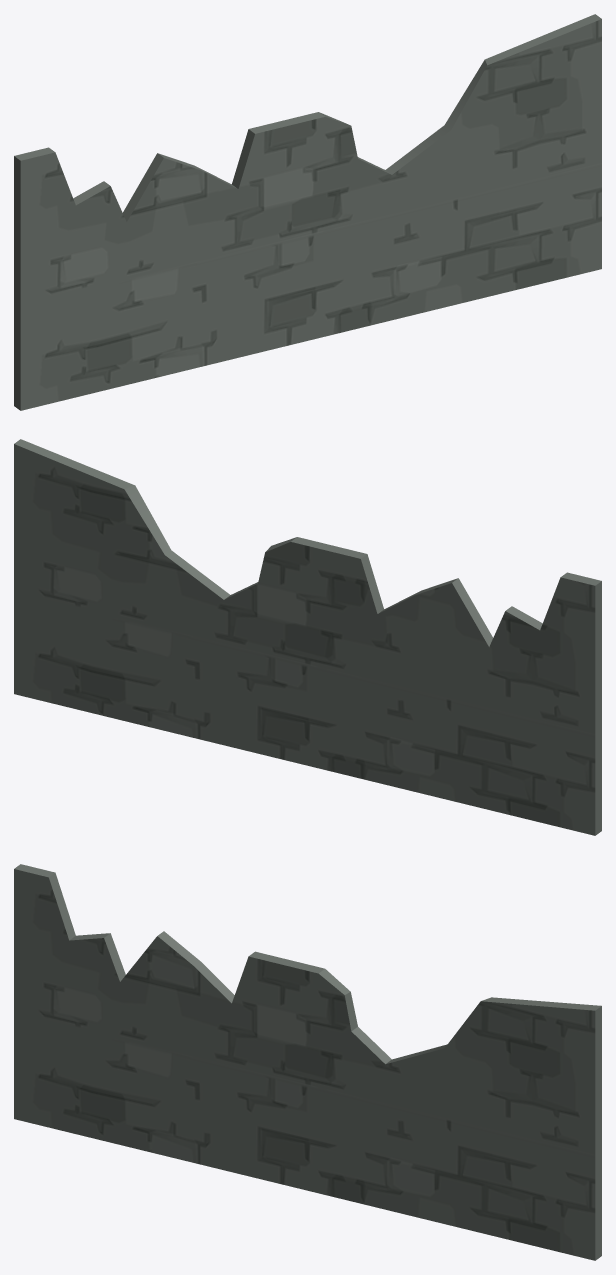
File: SM_Env_Wall_02.fbx
The picture shows the model from 3 angles, top to bottom: view 1: azimuth 30°, elevation 25°; view 2: azimuth 150°, elevation 25°; view 3: azimuth 330°, elevation 25°; orthographic projection.
Parts seen in each view (by area): view 1: SM_Env_Wall_02; view 2: SM_Env_Wall_02; view 3: SM_Env_Wall_02.
Part boxes in pixels (x1=…): SM_Env_Wall_02: x1=14, y1=14, x2=601, y2=410; SM_Env_Wall_02: x1=14, y1=439, x2=601, y2=835; SM_Env_Wall_02: x1=14, y1=864, x2=601, y2=1260.
Bounding box in the file's own units: 510 × 210 × 10.15.
1 material, 1 textured.
